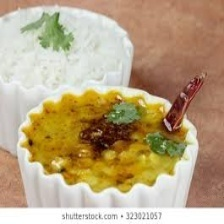dal: (25, 89, 185, 190)
